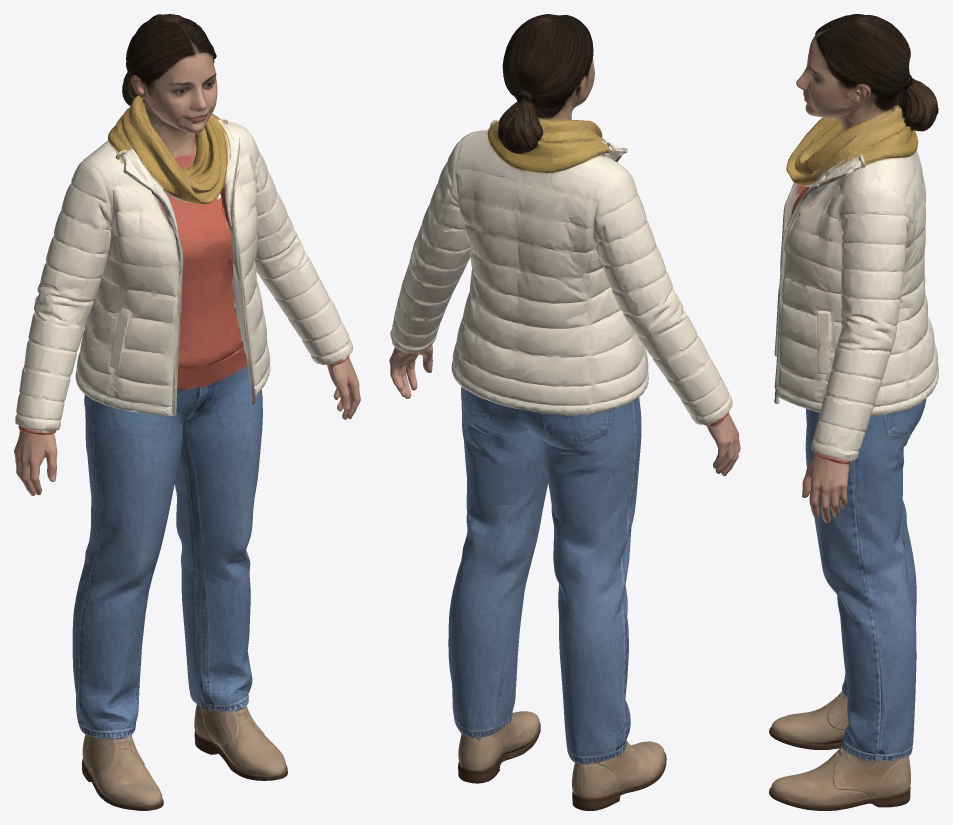
The model's file is character_n01_optimized.glb.
3 renders of one model, left to right at view 1: azimuth 30°, elevation 25°; view 2: azimuth 150°, elevation 25°; view 3: azimuth 270°, elevation 25°, orthographic.
Visible parts, largest first — view 1: output_unwrapped; view 2: output_unwrapped; view 3: output_unwrapped.
Part boxes in pixels (x1,y1,x2,y2): output_unwrapped: (14, 14, 360, 810); output_unwrapped: (389, 14, 740, 810); output_unwrapped: (769, 14, 938, 810).
Size of the model in its own units: 0.895 by 1.9 by 0.3888.
1 material, 1 textured.
